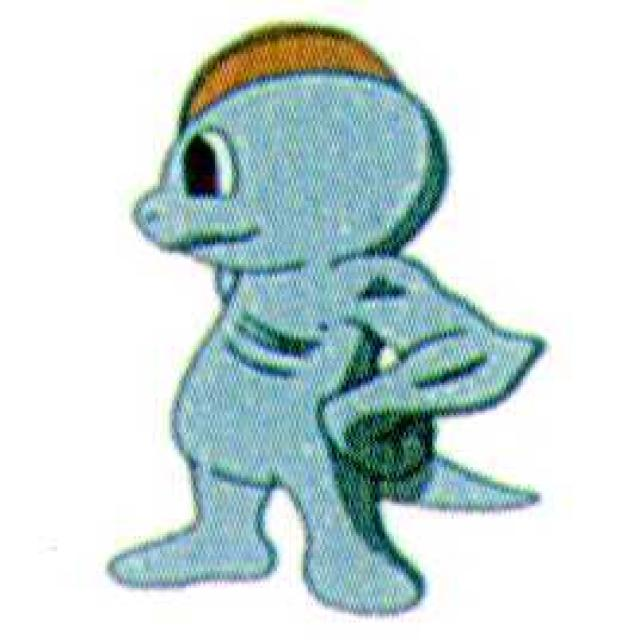Machop: (82, 11, 559, 636)
